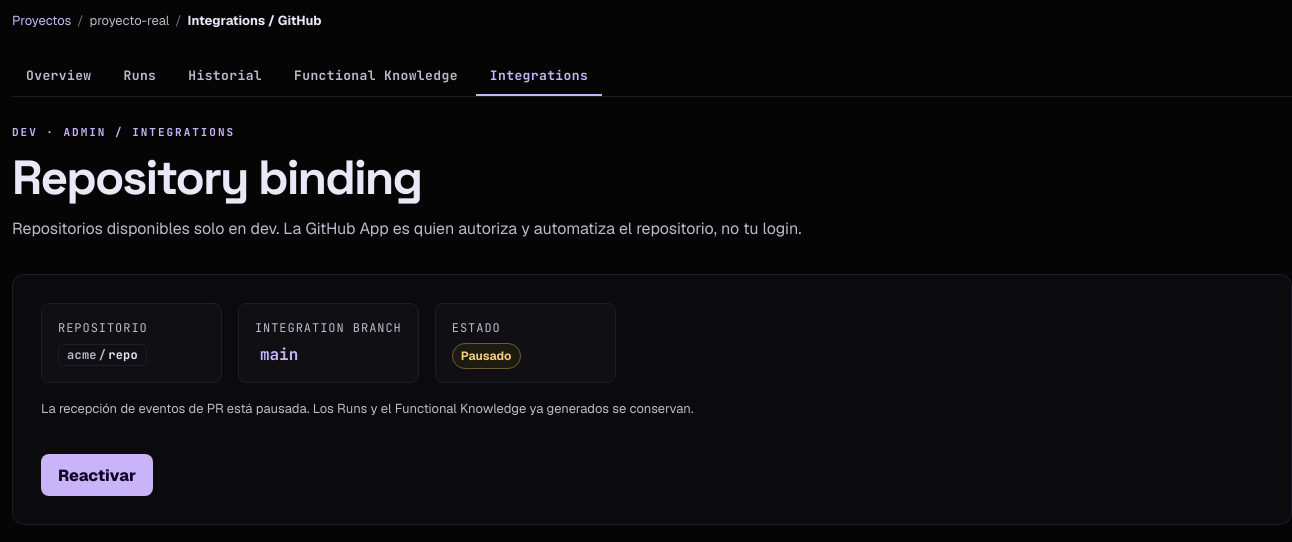
Test: en live Reactivar con 404 PROJECT_NOT_FOUND (Project borrado) lleva a "El proyecto ya no existe"
The image size is (1292, 542).
Click the button "Reactivar".
click(97, 475)  # box x1=41 y1=454 x2=153 y2=496
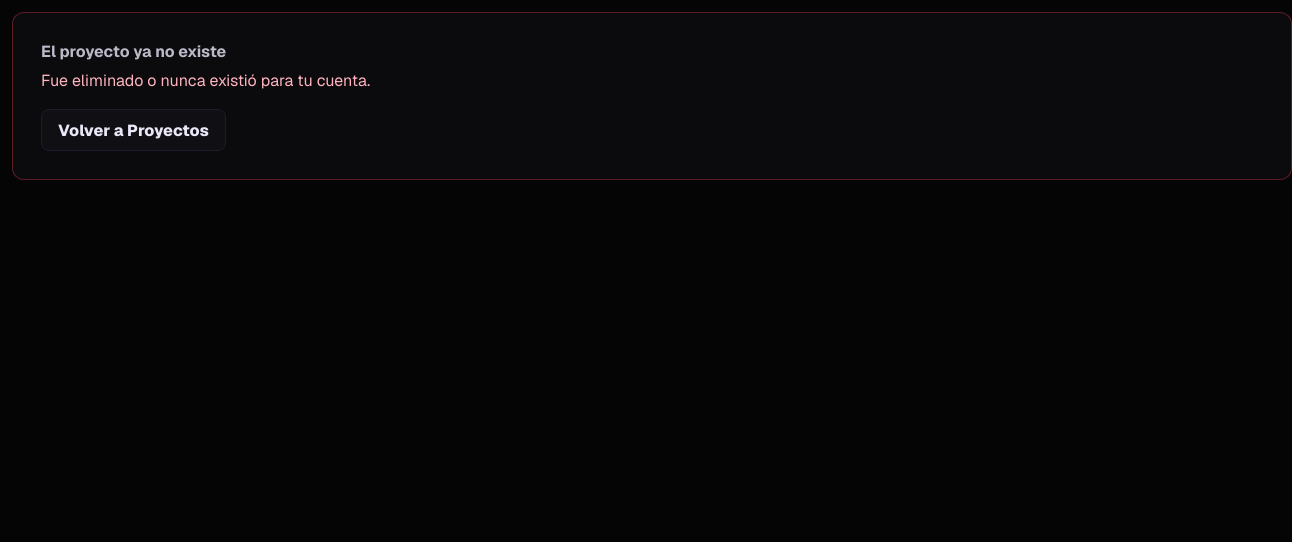
Check: the text "El proyecto ya no existe" is shown, box x1=41 y1=41 x2=226 y2=62
Check: the link "Volver a Proyectos" is shown, box x1=41 y1=109 x2=226 y2=151
